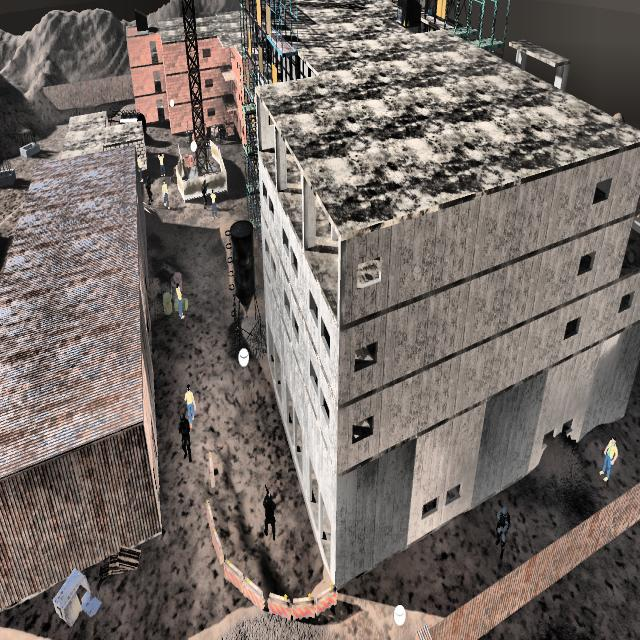bad: (255, 482, 282, 546), (177, 412, 197, 468), (492, 499, 512, 551), (141, 170, 157, 212), (200, 174, 211, 213)
good: (597, 431, 620, 485), (174, 277, 188, 330), (183, 384, 199, 424), (159, 177, 173, 209), (155, 147, 167, 180), (209, 189, 220, 220), (136, 149, 144, 186)
